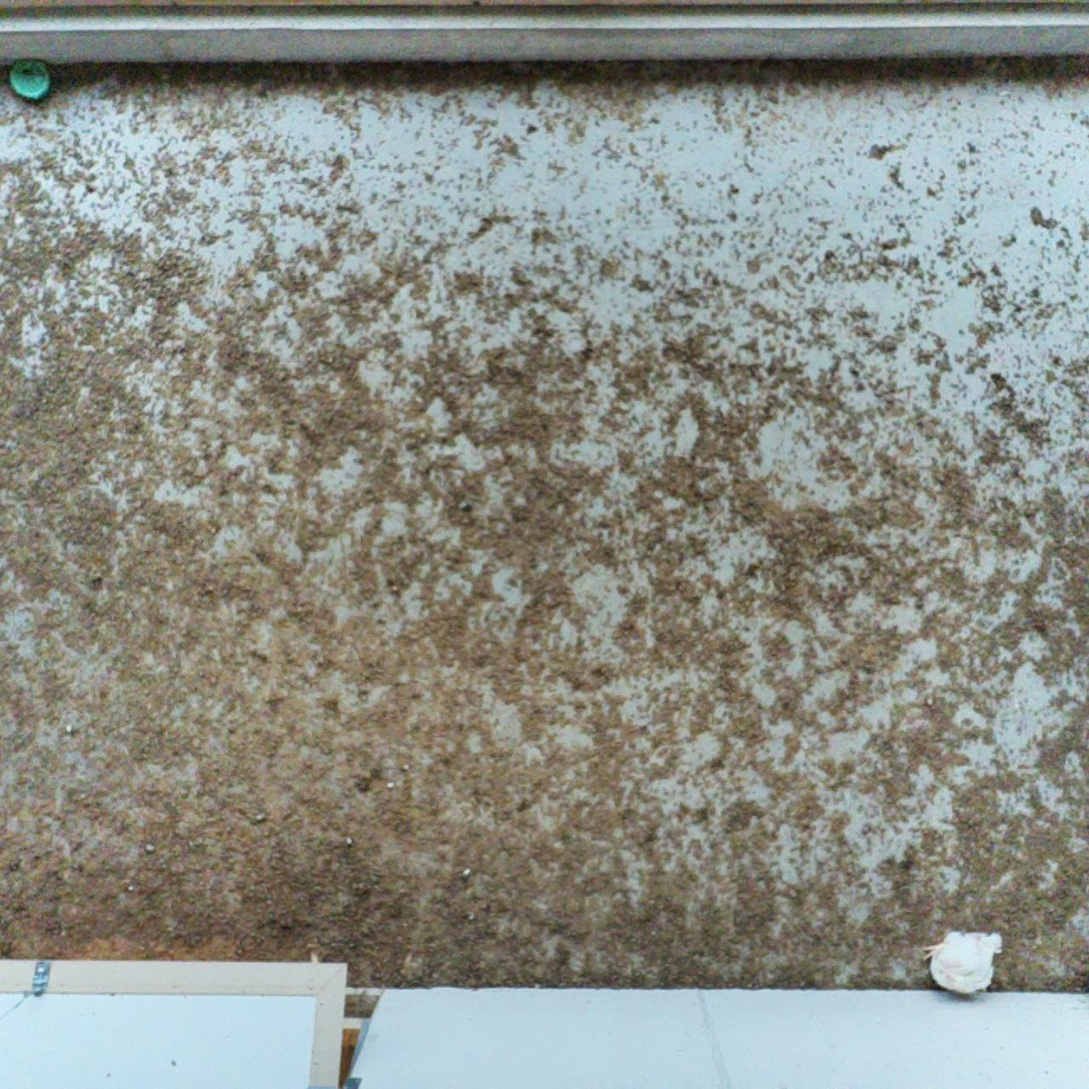chicken: (917, 924, 1007, 999)
